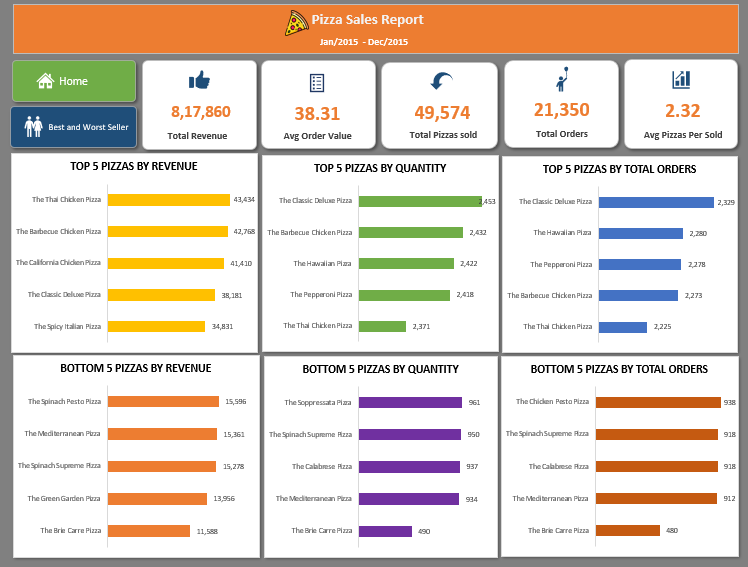

Layout of this report page (visuals, bound fields, positions):
{"tool":"powerbi","page":{"name":"Best/worst seller","canvas":[1500,820],"ordinal":1},"visuals":[{"type":"cardVisual","fields":{"Data":["pizza_sales.Total Revenue","pizza_sales.Average order value","pizza_sales.Total Pizza Sold","pizza_sales.Total orders","pizza_sales.Average pizza per order"]},"box":[245.7,98.6,1254.3,157.1],"z":0},{"type":"shape","box":[245.7,14.3,1245.7,77.1],"z":1000},{"type":"textbox","box":[638.6,14.3,288.6,52.9],"z":2000},{"type":"textbox","box":[688.6,52.9,194.3,41.4],"z":3000},{"type":"shape","box":[245.7,261.4,392.9,261.4],"z":4000},{"type":"slicer","fields":{"Values":["pizza_sales.pizza_category"]},"box":[967.1,17.1,232.9,71.4],"z":5000},{"type":"shape","box":[10,94.3,225.7,710],"z":6000},{"type":"slicer","fields":{"Values":["pizza_sales.order_date"]},"box":[1200,14.3,230,72],"z":7000},{"type":"textbox","box":[10,98.6,225.7,38.6],"z":8000},{"type":"textbox","box":[10,137.1,225.7,312.9],"z":9000},{"type":"shape","box":[1084.3,261.4,407.1,261.4],"z":10000},{"type":"shape","box":[650,261.4,424.3,261.4],"z":11000},{"type":"shape","box":[245.7,537.1,392.9,261.4],"z":12000},{"type":"shape","box":[1084.3,541.4,407.1,257.1],"z":13000},{"type":"shape","box":[650,537.1,424.3,261.4],"z":14000},{"type":"clusteredBarChart","title":"Top 5 pizzas by Revenue ","fields":{"Y":["pizza_sales.Total Revenue"],"Category":["pizza_sales.pizza_name"]},"box":[258.6,272.9,367.1,238.6],"z":15000},{"type":"clusteredBarChart","title":"Bottom 5 pizzas by Revenue ","fields":{"Y":["pizza_sales.Total Revenue"],"Category":["pizza_sales.pizza_name"]},"box":[260,548.6,367.1,238.6],"z":16000},{"type":"clusteredBarChart","title":"Top 5 pizzas by Quantity","fields":{"Y":["pizza_sales.Total Pizza Sold"],"Category":["pizza_sales.pizza_name"]},"box":[662.9,274.3,398.6,238.6],"z":17000},{"type":"clusteredBarChart","title":"Bottom 5 pizzas by Quantity","fields":{"Y":["pizza_sales.Total Pizza Sold"],"Category":["pizza_sales.pizza_name"]},"box":[664.3,550,398.6,238.6],"z":18000},{"type":"clusteredBarChart","title":"Top 5 pizzas by Total Orders","fields":{"Category":["pizza_sales.pizza_name"],"Y":["pizza_sales.Total orders"]},"box":[1100,275.7,378.6,238.6],"z":19000},{"type":"clusteredBarChart","title":"Bottom 5 pizzas by Total Orders","fields":{"Category":["pizza_sales.pizza_name"],"Y":["pizza_sales.Total orders"]},"box":[1098.6,551.4,378.6,238.6],"z":20000},{"type":"textbox","box":[10,485.7,225.7,312.9],"z":21000},{"type":"textbox","box":[10,450,225.7,38.6],"z":22000},{"type":"shape","box":[10,14.3,225.7,74.3],"z":23000},{"type":"pageNavigator","box":[10,14.3,225.7,35.7],"z":24000},{"type":"pageNavigator","box":[10,52.9,225.7,35.7],"z":25000}]}

Visuals, with their boxes on the page's 1500x820 design canvas (x1, y1, x2, y2). These are canvas units, not pixel positions in the 748x567 screenshot, which may show the page scaled, cropped or inside an application window:
cardVisual - pizza_sales.Total Revenue x pizza_sales.Average order value: (246,99,1500,256)
shape: (246,14,1491,91)
textbox: (639,14,927,67)
textbox: (689,53,883,94)
shape: (246,261,639,523)
slicer - pizza_sales.pizza_category: (967,17,1200,88)
shape: (10,94,236,804)
slicer - pizza_sales.order_date: (1200,14,1430,86)
textbox: (10,99,236,137)
textbox: (10,137,236,450)
shape: (1084,261,1491,523)
shape: (650,261,1074,523)
shape: (246,537,639,798)
shape: (1084,541,1491,798)
shape: (650,537,1074,798)
"Top 5 pizzas by Revenue " clusteredBarChart: (259,273,626,512)
"Bottom 5 pizzas by Revenue " clusteredBarChart: (260,549,627,787)
"Top 5 pizzas by Quantity" clusteredBarChart: (663,274,1062,513)
"Bottom 5 pizzas by Quantity" clusteredBarChart: (664,550,1063,789)
"Top 5 pizzas by Total Orders" clusteredBarChart: (1100,276,1479,514)
"Bottom 5 pizzas by Total Orders" clusteredBarChart: (1099,551,1477,790)
textbox: (10,486,236,799)
textbox: (10,450,236,489)
shape: (10,14,236,89)
pageNavigator: (10,14,236,50)
pageNavigator: (10,53,236,89)
